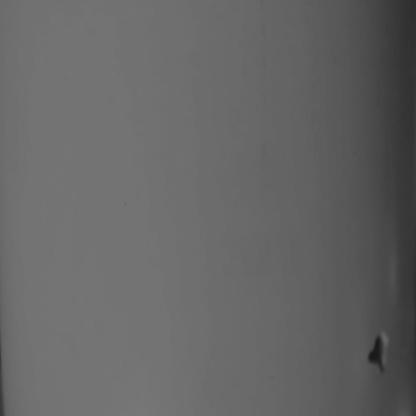kongdong: (352, 328, 404, 381)
